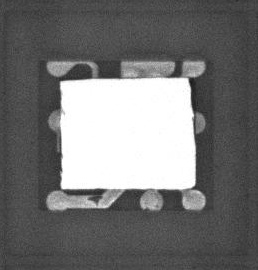DIE_BROKEN: (187, 78, 196, 110)
